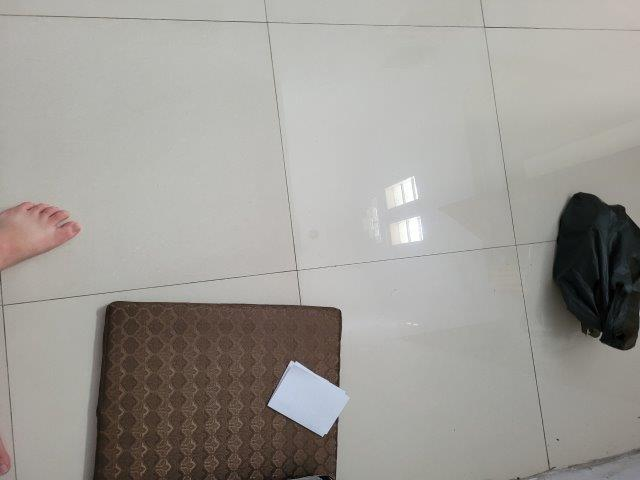kertas: (270, 361, 349, 438)
plastik: (554, 192, 640, 352)
